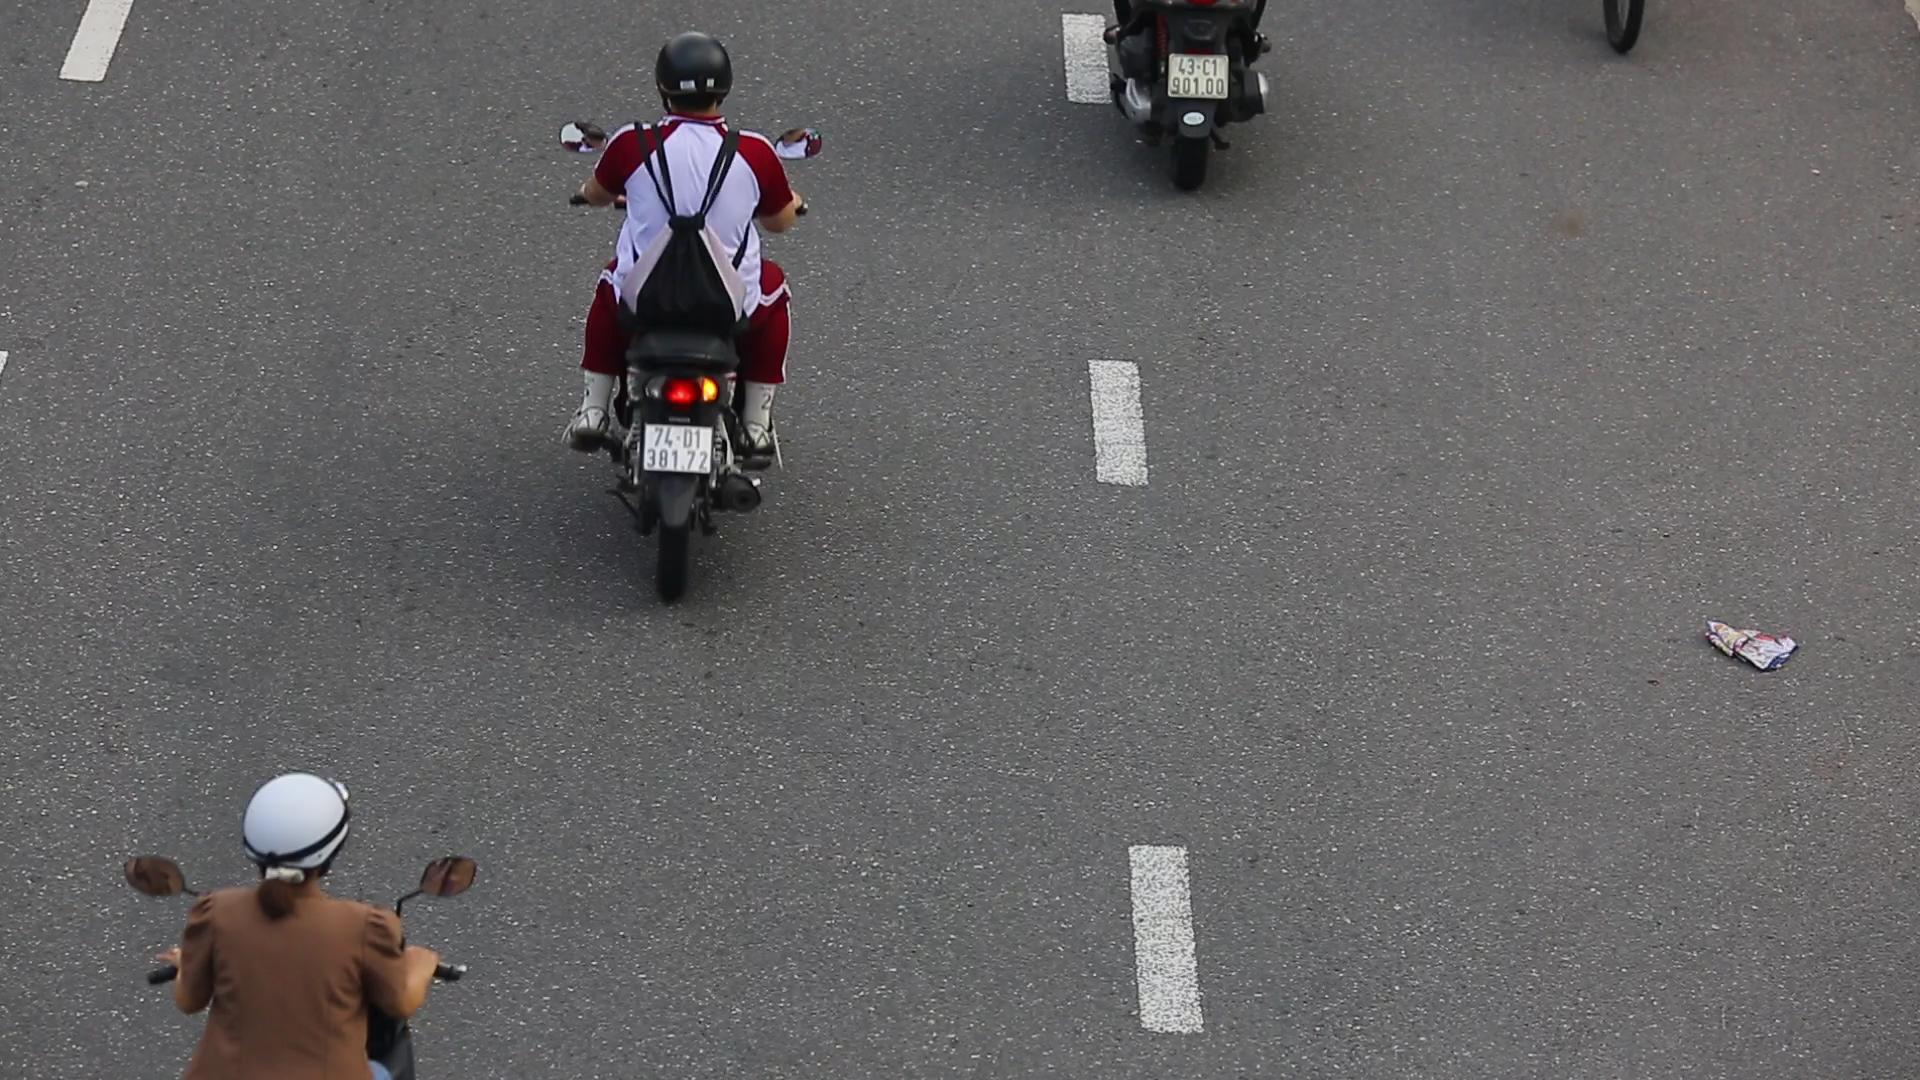motobike: (538, 12, 836, 603)
